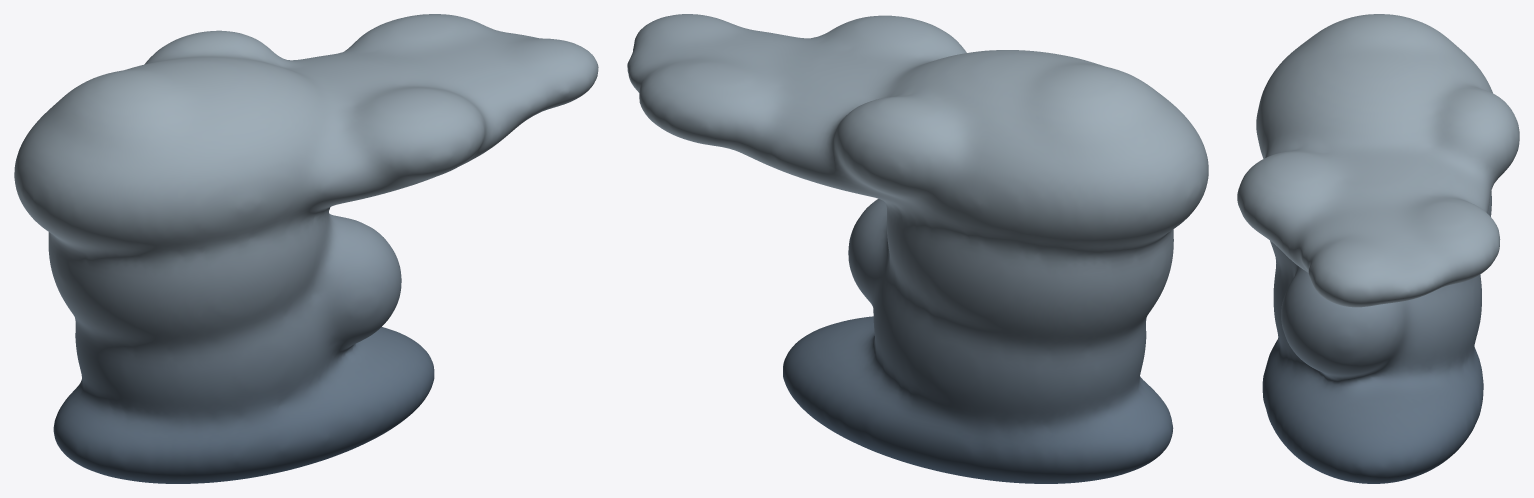
The model's file is fw_cloud_storm_anvil.hi.glb.
3 renders of one model, left to right at view 1: azimuth 30°, elevation 25°; view 2: azimuth 150°, elevation 25°; view 3: azimuth 270°, elevation 25°, orthographic. The views are drawn at different scales.
Parts seen in each view (by area): view 1: body; view 2: body; view 3: body.
Part boxes in pixels (box(x1,y1,x2,y2)): body: box(14, 14, 598, 483); body: box(627, 14, 1208, 483); body: box(1237, 14, 1519, 483).
Bounding box in the file's own units: 4.14 × 2.84 × 1.98.
